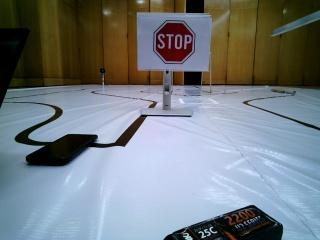stop: (140, 13, 204, 65)
